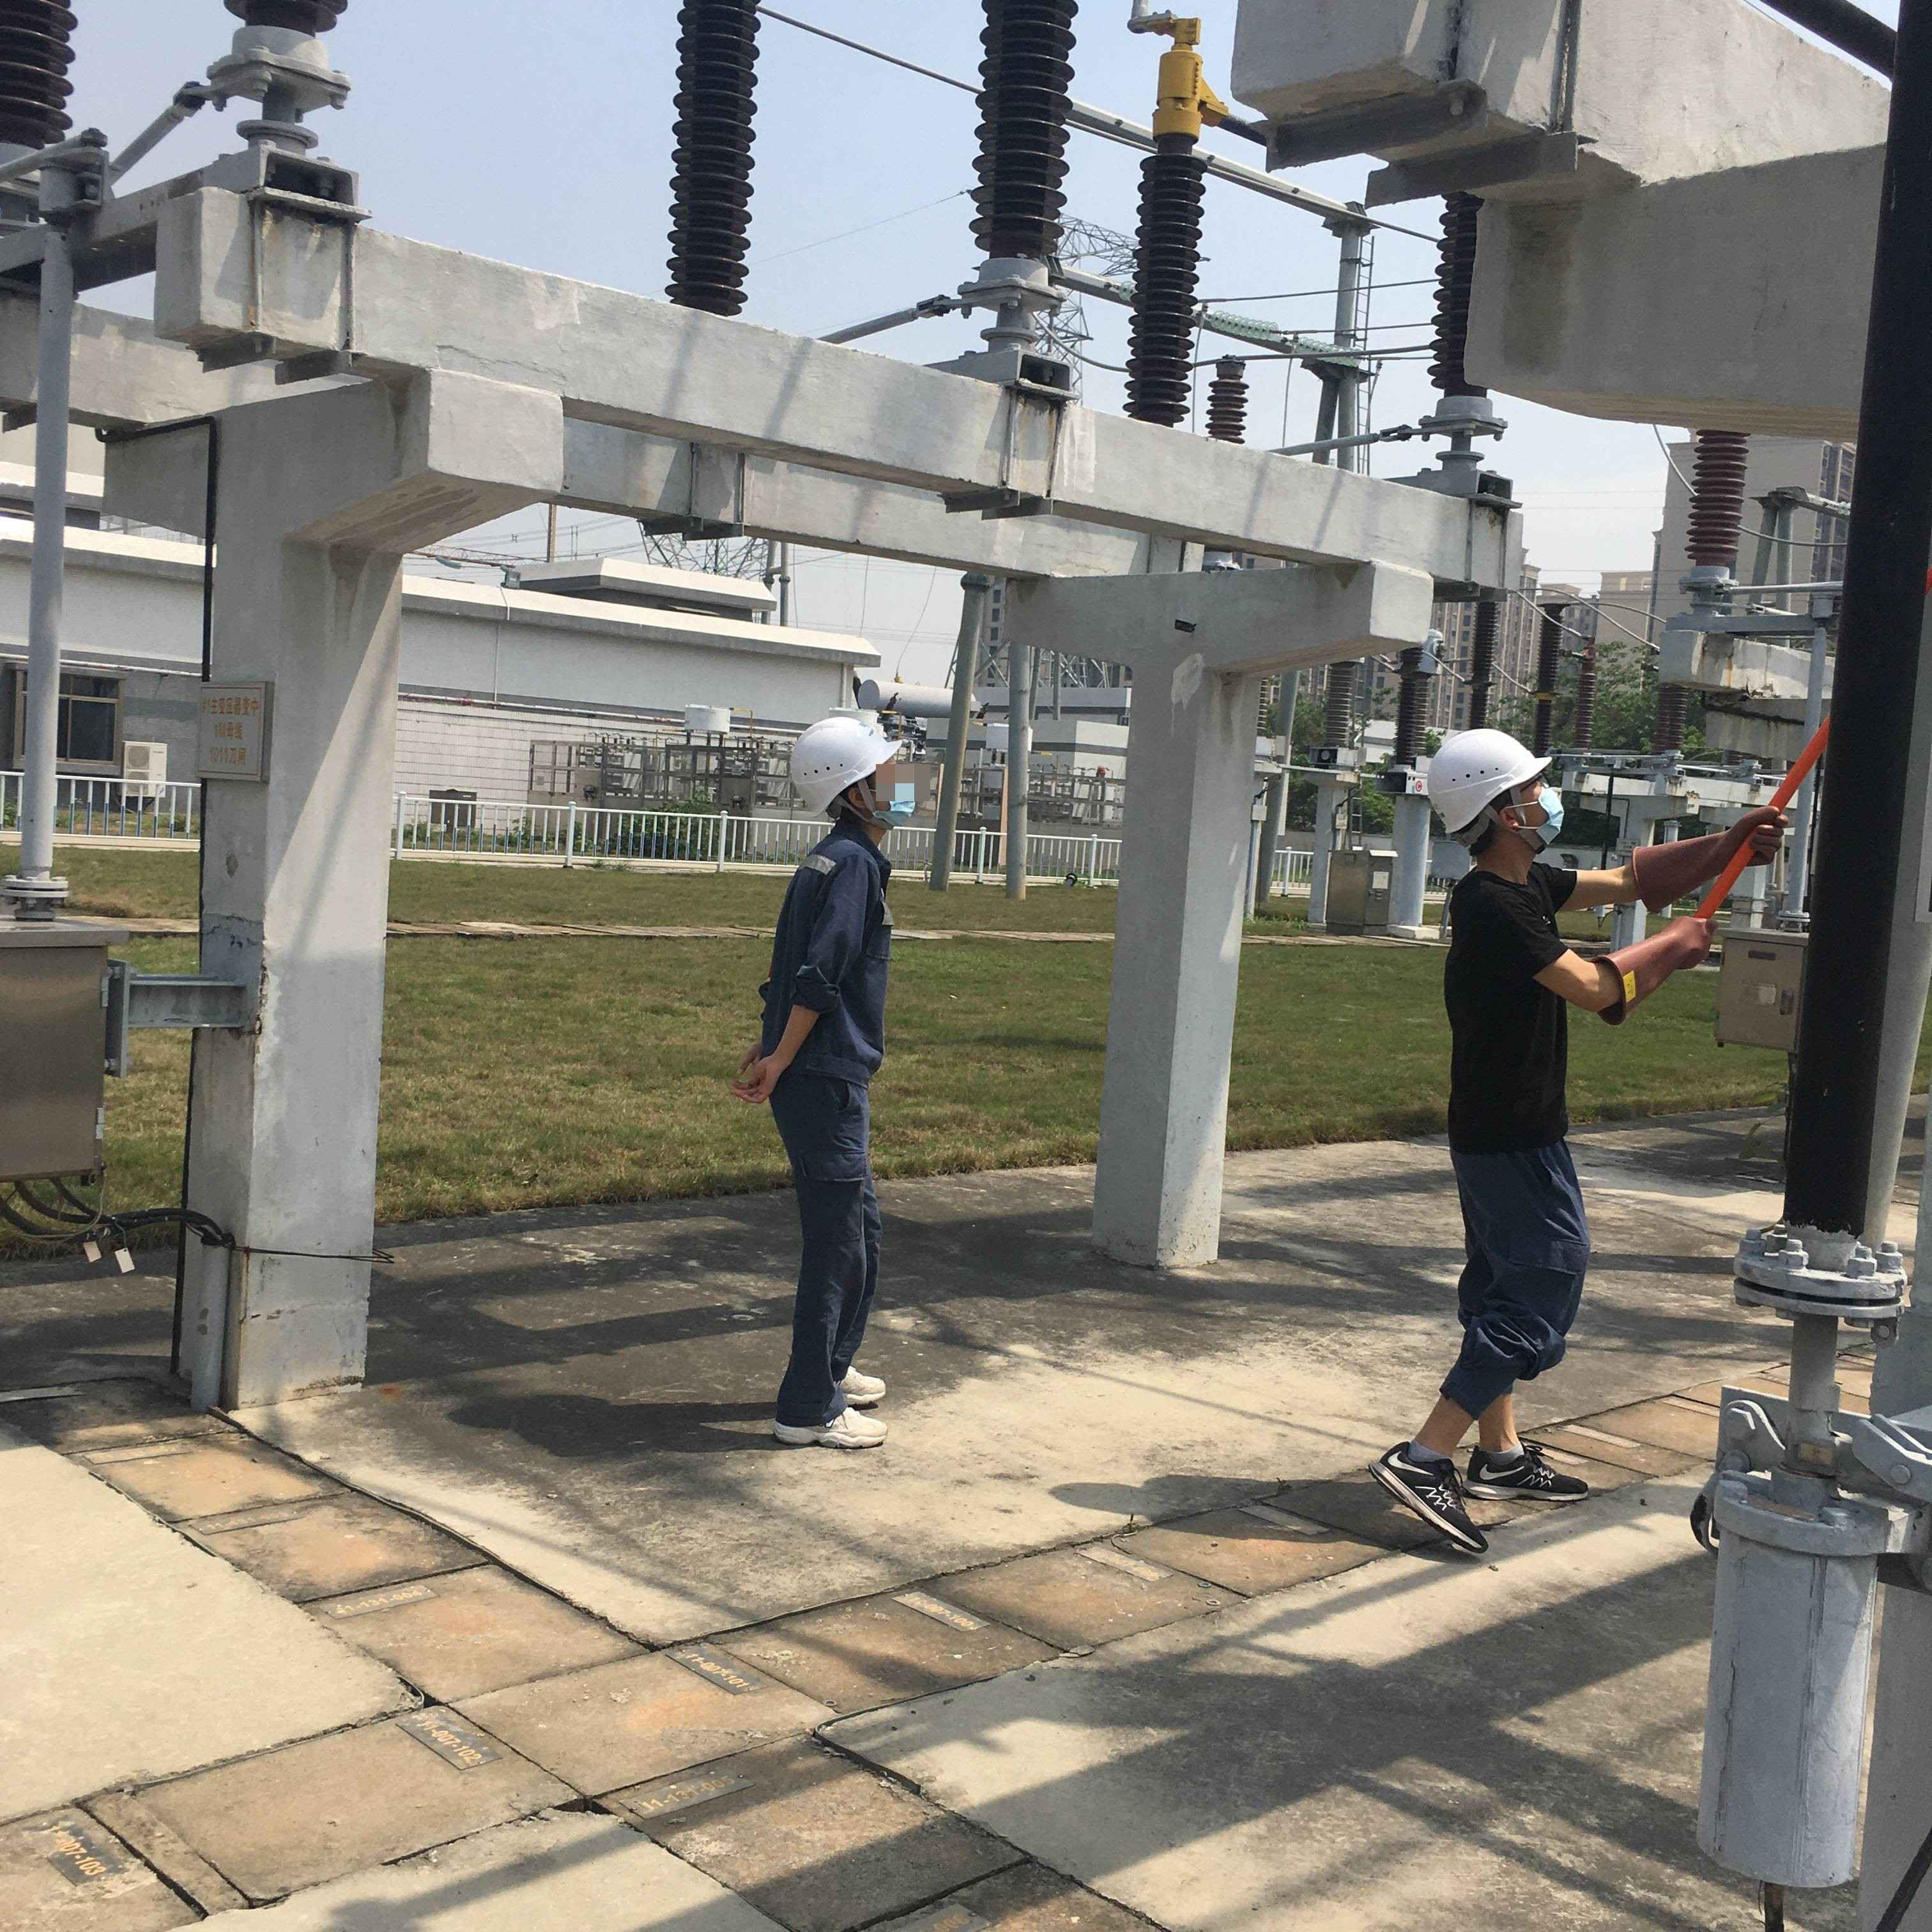downsuit: (1417, 1136, 1610, 1410), (771, 1115, 885, 1375)
upcloth: (1426, 865, 1608, 1150)
upsuit: (747, 830, 899, 1095)
wrongbottom: (1410, 1322, 1562, 1454)
wrongtop: (738, 984, 832, 1102)
